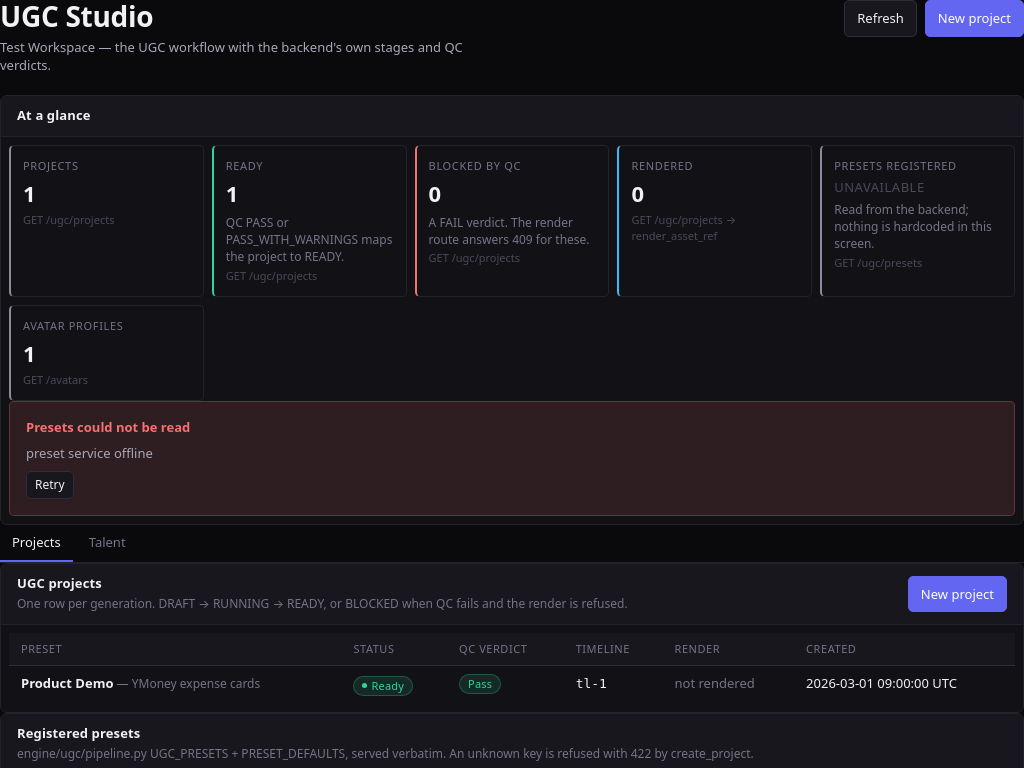
Scenario: the preset vocabulary is the backend's, never the client's › blocks creation and says why when the preset read fails, rather than falling back to a guess
Expected: the text "— YMoney expense cards" is shown, [114, 675, 260, 692]
What coordinates should you click on to do the following:
click the button "New project" in the row of "UGC Studio"
I would click on:
 (974, 18)
Its box is [925, 0, 1023, 37].
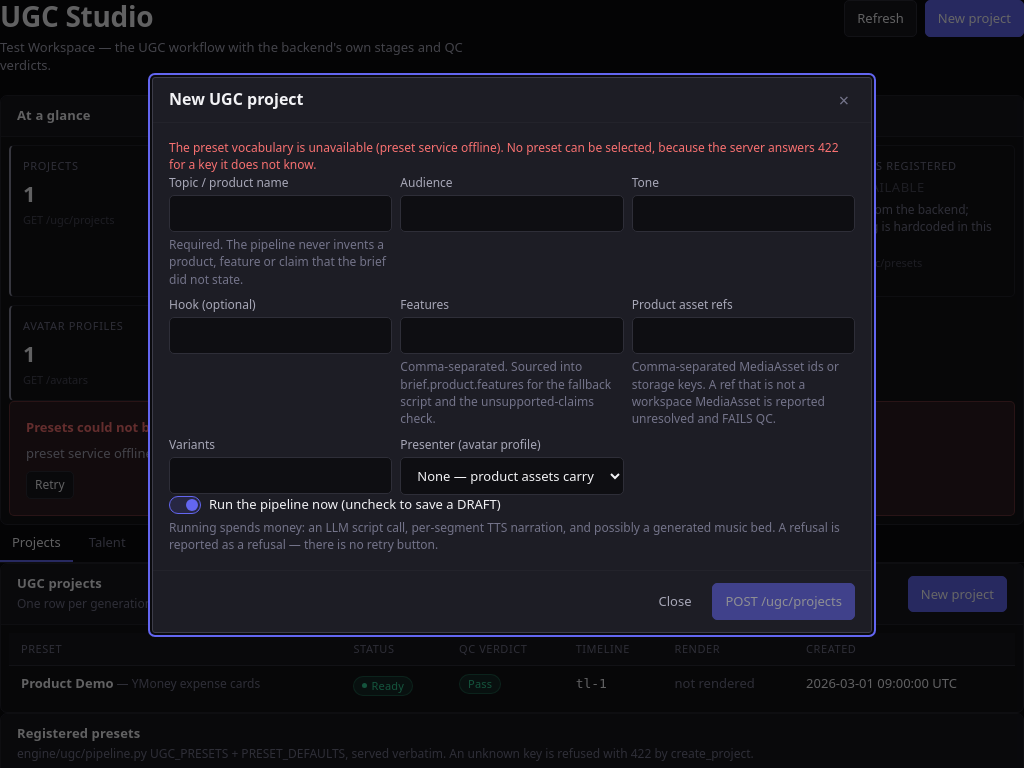
Now the message shows "preset service offline", box [380, 139, 497, 156]
Now the button "POST /ugc/projects" is disabled, box [712, 583, 855, 620]
